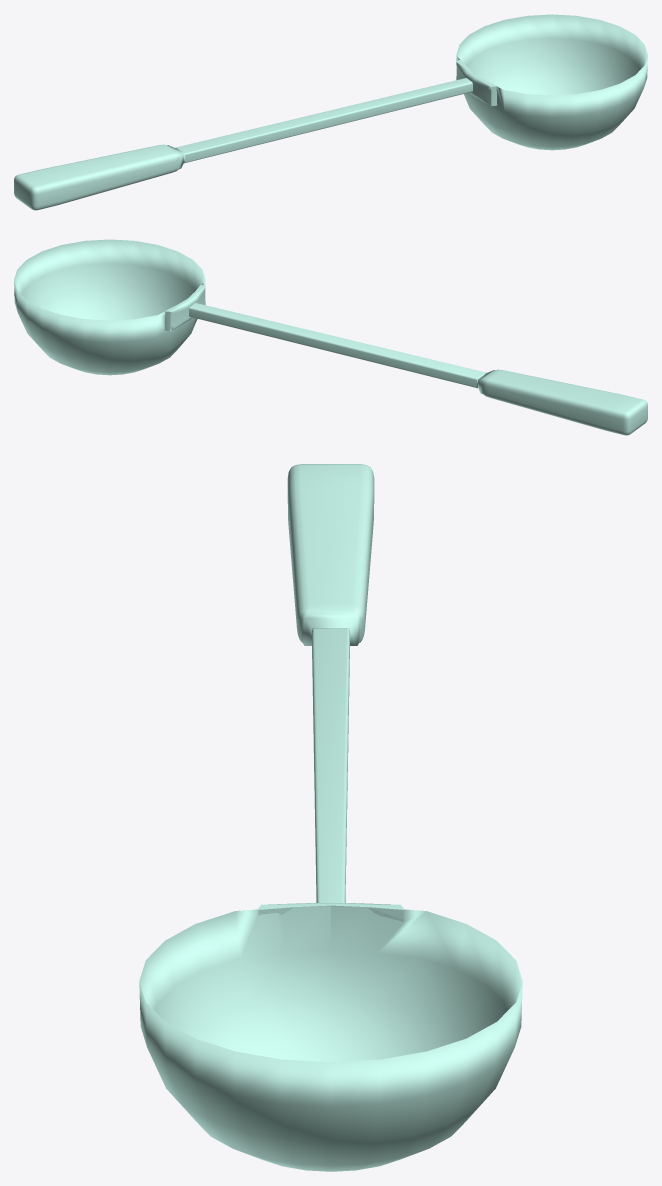
File: tangshao.fbx
3 renders of one model, top to bottom at view 1: azimuth 30°, elevation 25°; view 2: azimuth 150°, elevation 25°; view 3: azimuth 270°, elevation 25°, orthographic. The views are drawn at different scales.
Visible parts, largest first — view 1: 汤勺; view 2: 汤勺; view 3: 汤勺.
Part boxes in pixels (<box>): 汤勺: <box>14,14,647,210</box>; 汤勺: <box>14,239,647,435</box>; 汤勺: <box>139,464,522,1171</box>.
Bounding box in the file's own units: 8.55 × 1.16 × 2.32.
